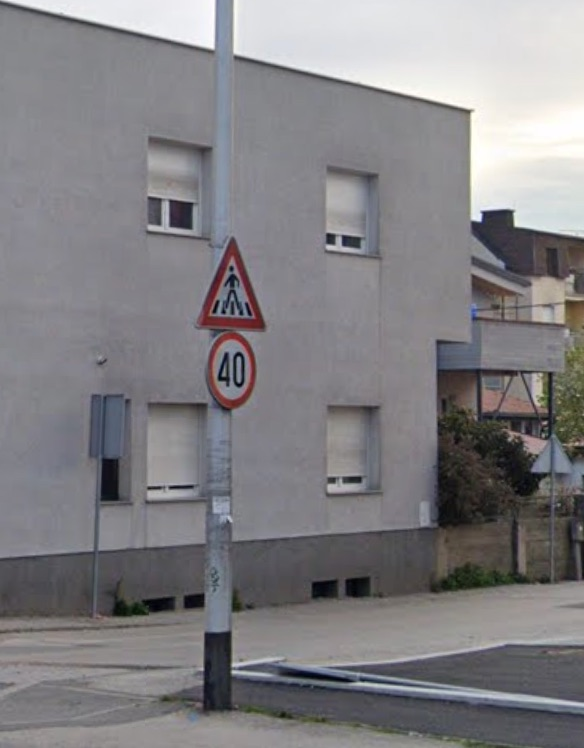Ograničenje brzine 40: (207, 331, 257, 410)
Približavanje pješačkom prijelazu: (195, 234, 266, 331)
